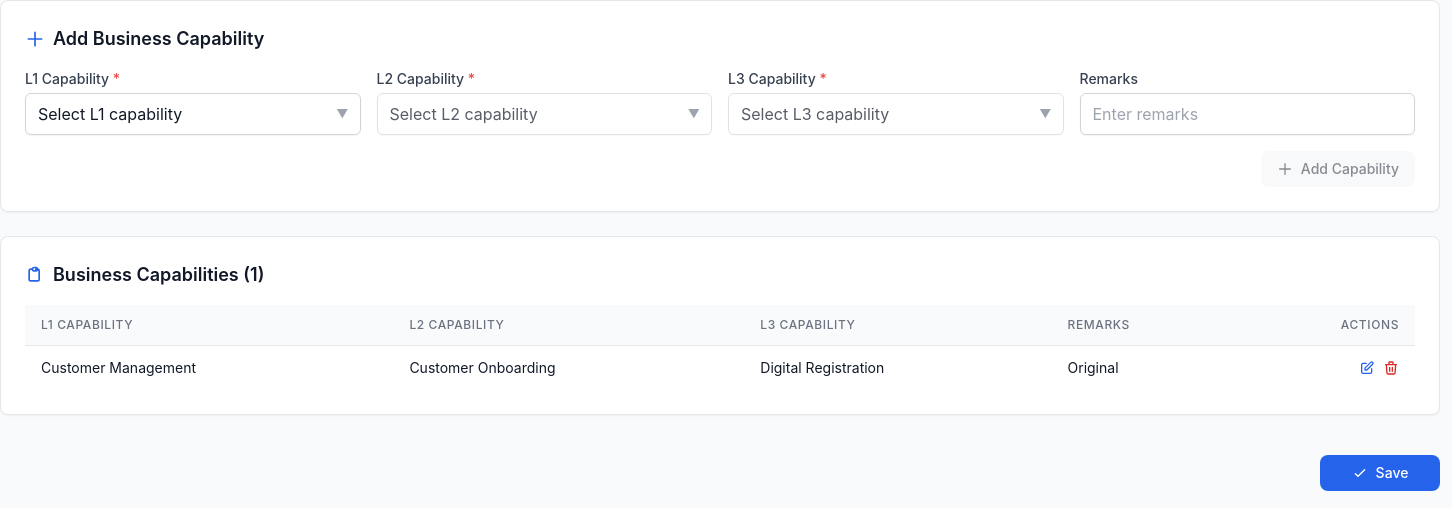
Test: BusinessCapabilitiesStep › Edit Capability Functionality › cancels edit when cancel button clicked
Enter edit mode
Step 1. Click the button titled "Edit" → (1367, 368), box [1359, 360, 1375, 376]
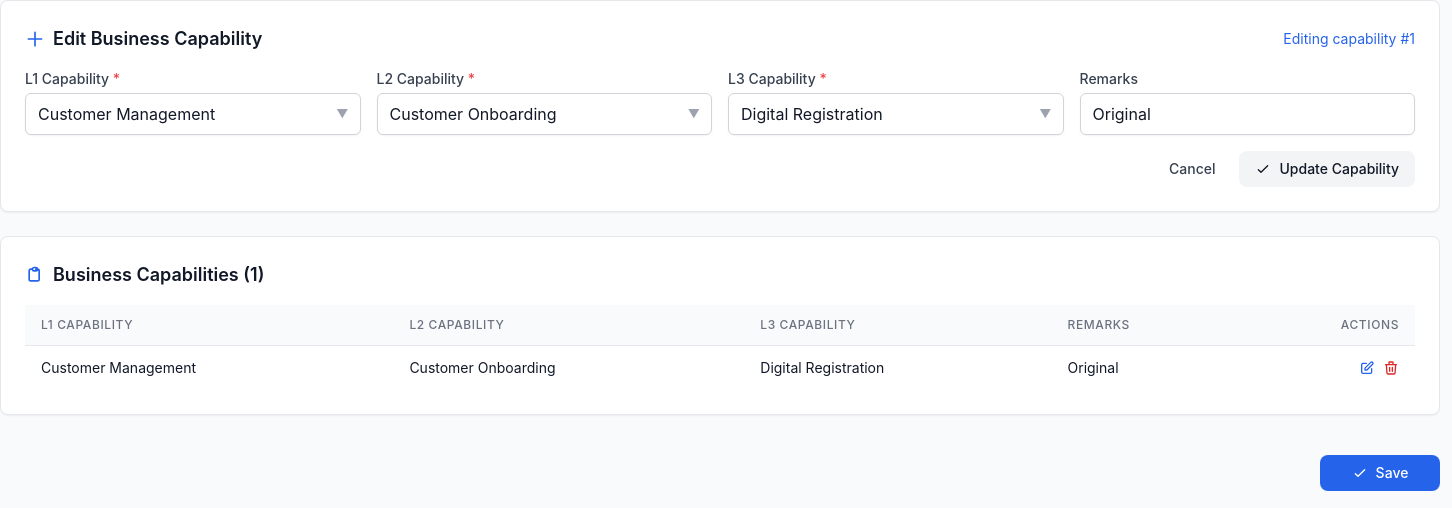
Expected: the text "Edit Business Capability" is shown, [25, 25, 262, 53]
Make a change
Step 2. Replace the text in the field with "Changed" → (1247, 114), box [1080, 93, 1415, 135]
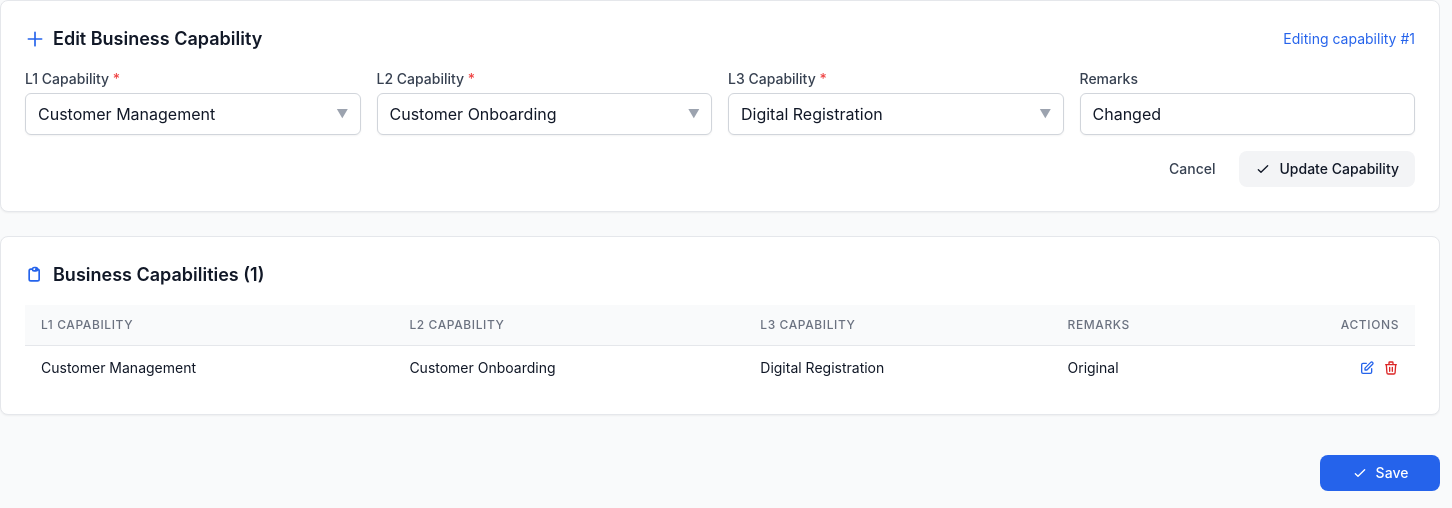
Click cancel button
Step 3. Click the button "Cancel" → (1192, 169), box [1153, 151, 1232, 187]
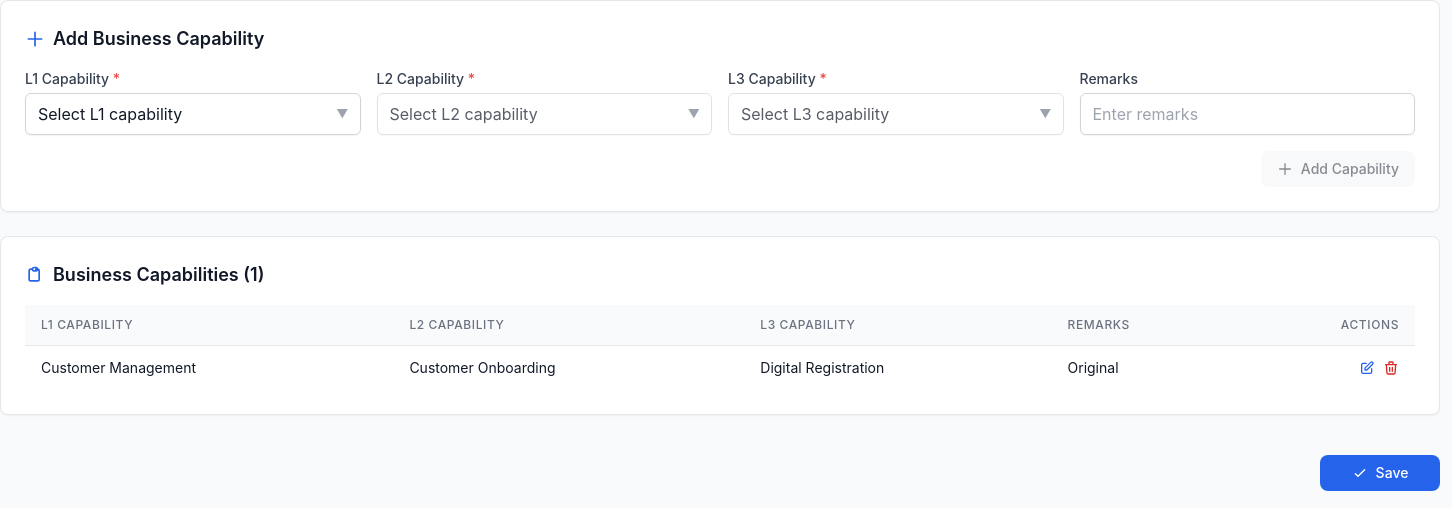
Expected: the text "Original" is shown, [1052, 346, 1237, 390]
Expected: the text "Edit Business Capability" is gone
